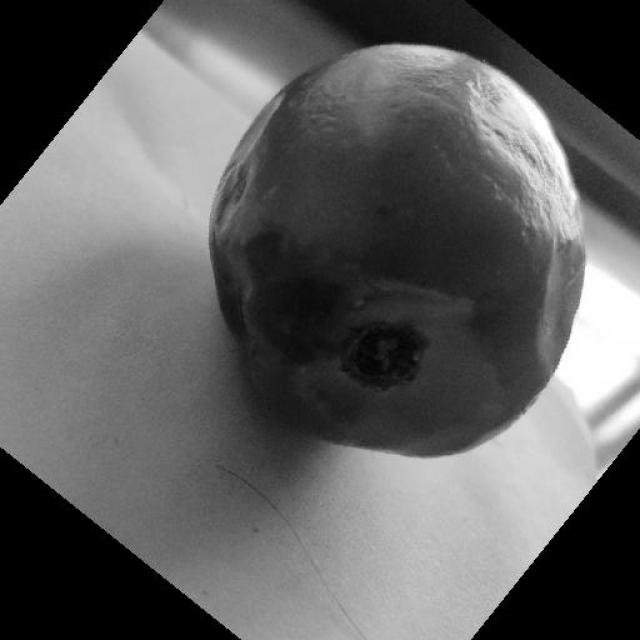Stale_tomato: (174, 123, 491, 511)
